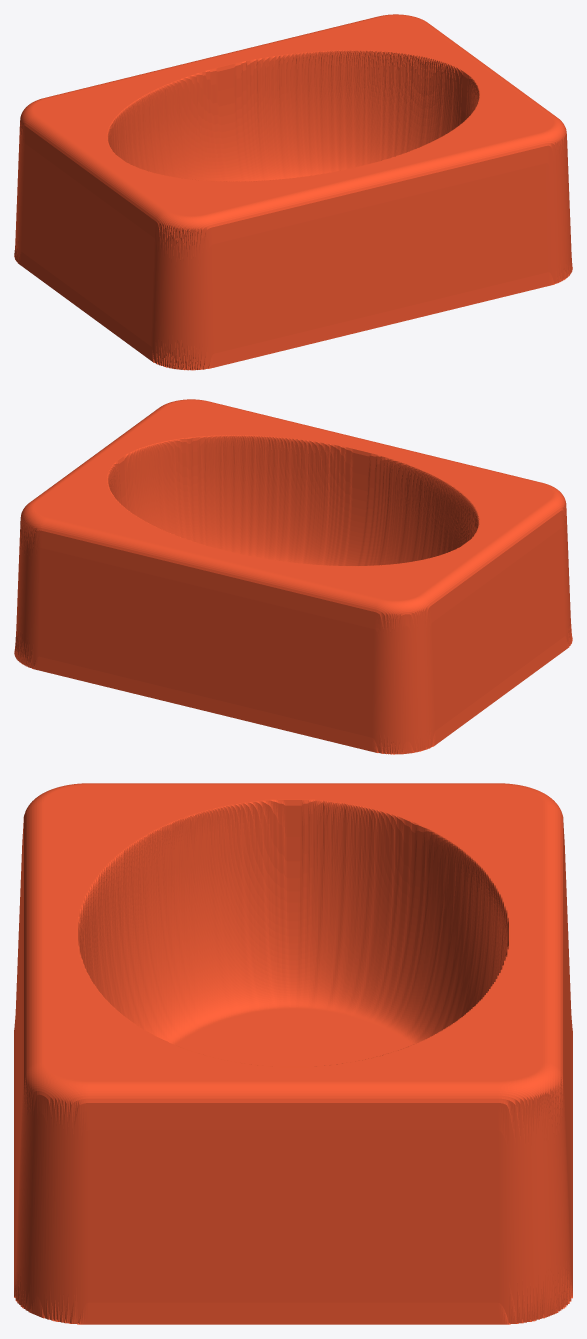
Rendered from mold.glb.
3 views of the same model, one above another, from view 1: azimuth 30°, elevation 25°; view 2: azimuth 150°, elevation 25°; view 3: azimuth 270°, elevation 25° (orthographic). The views are drawn at different scales.
Visible parts, largest first — view 1: geometry_0; view 2: geometry_0; view 3: geometry_0.
Part boxes in pixels (x1=…): geometry_0: x1=14, y1=14, x2=572, y2=370; geometry_0: x1=14, y1=399, x2=572, y2=754; geometry_0: x1=14, y1=783, x2=572, y2=1324.
Size of the model in its own units: 0.0924 by 0.031 by 0.068.
